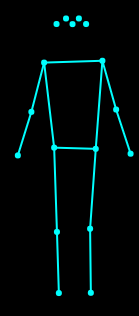mountain: (13, 10, 135, 300)
